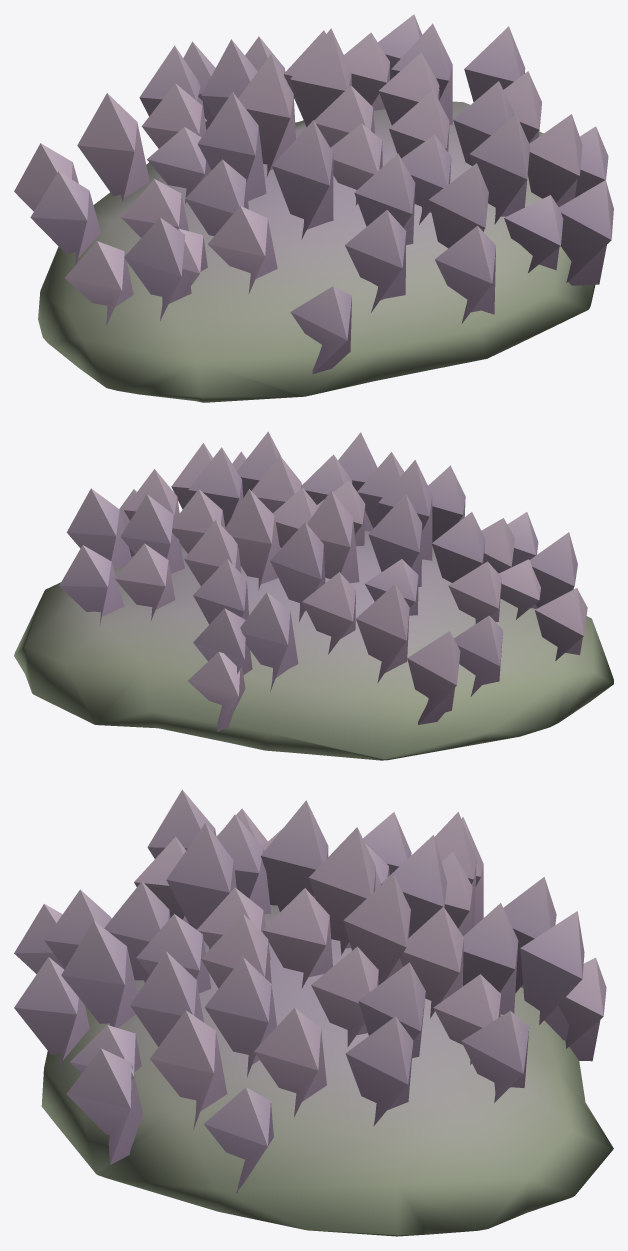
Rendered from heather.glb.
3 views of the same model, one above another, from view 1: azimuth 30°, elevation 25°; view 2: azimuth 150°, elevation 25°; view 3: azimuth 270°, elevation 25° (orthographic). The views are drawn at different scales.
Visible parts, largest first — view 1: heather; view 2: heather; view 3: heather.
Boxes of the visible parts, box(x1,y1,x2,y2) form: heather: box(14, 14, 613, 402); heather: box(14, 431, 613, 760); heather: box(14, 789, 613, 1236).
Size of the model in its own units: 0.4167 by 0.1546 by 0.3497.
